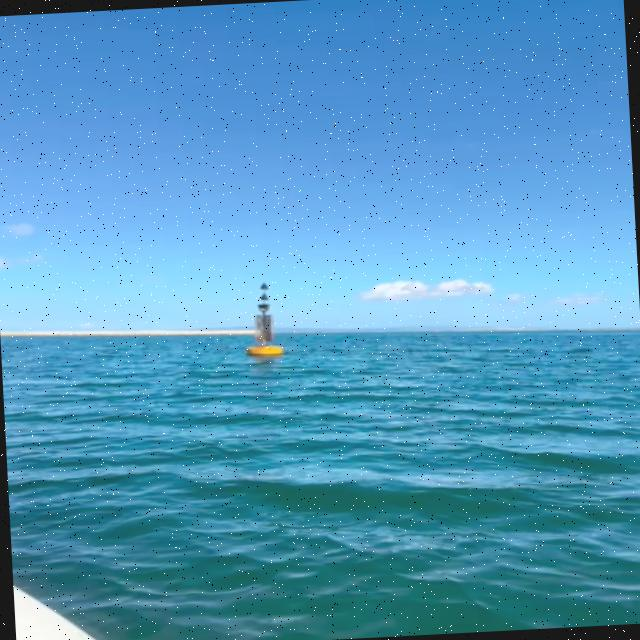marque: (241, 283, 292, 360)
